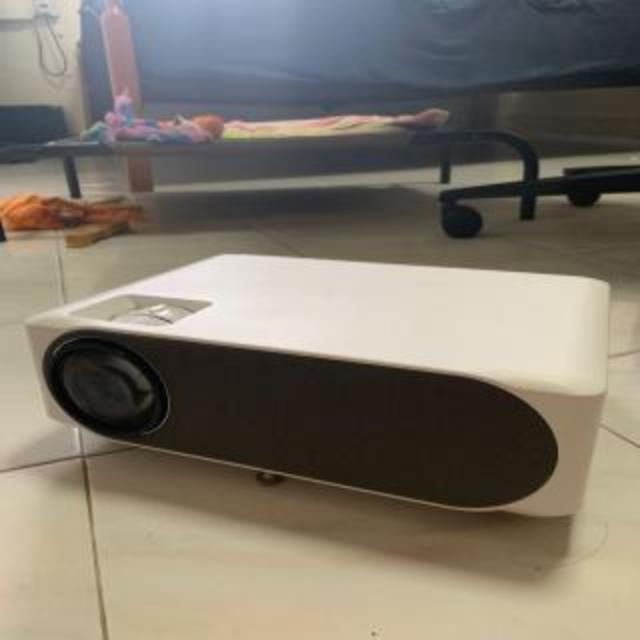Projector: (24, 256, 610, 518)
